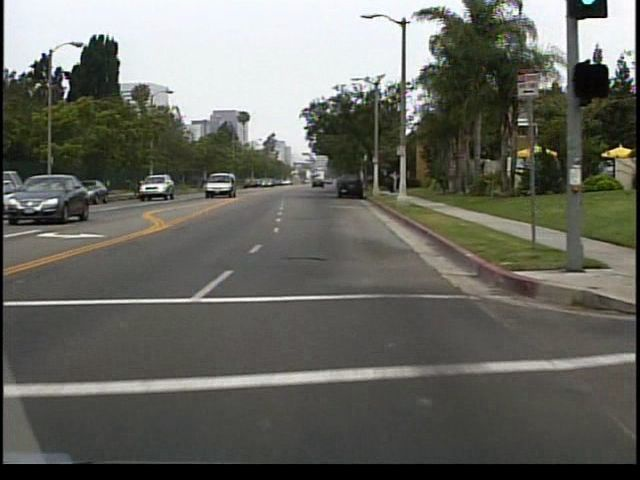person: (390, 171, 402, 196), (388, 174, 393, 193)
